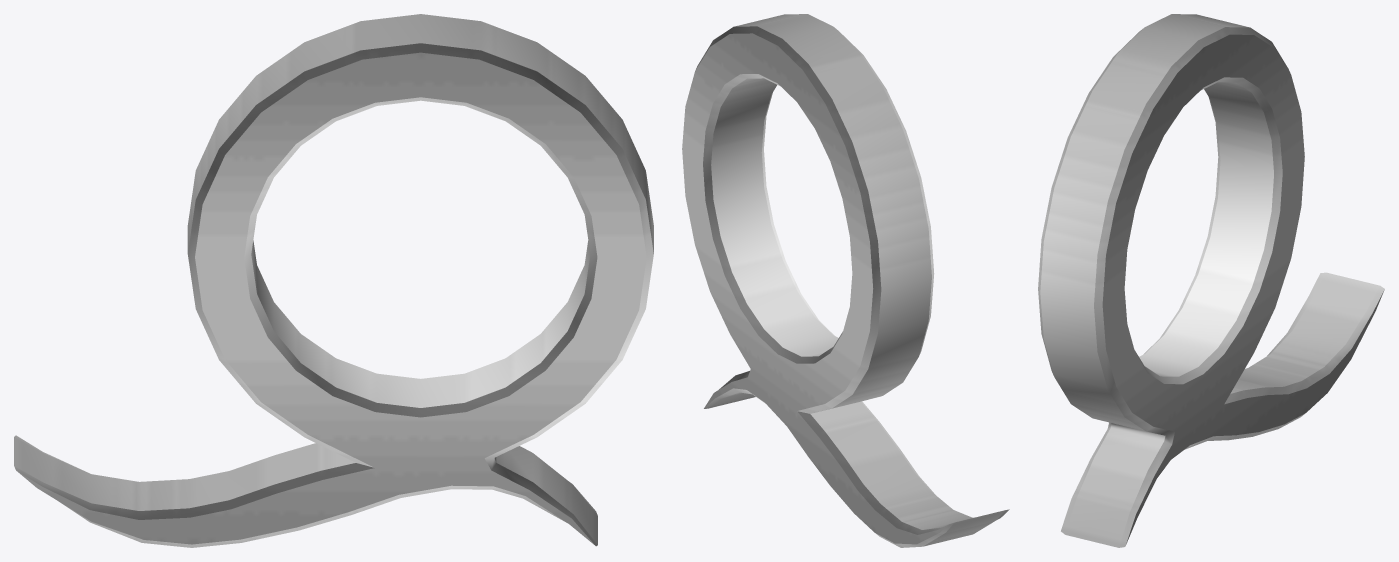
The model's file is icon.ico.obj.
3 renders of one model, left to right at view 1: azimuth 30°, elevation 25°; view 2: azimuth 150°, elevation 25°; view 3: azimuth 270°, elevation 25°, orthographic. The views are drawn at different scales.
Bounding box in the file's own units: 3.9 × 3.68 × 2.56.
1 material, 1 textured.
